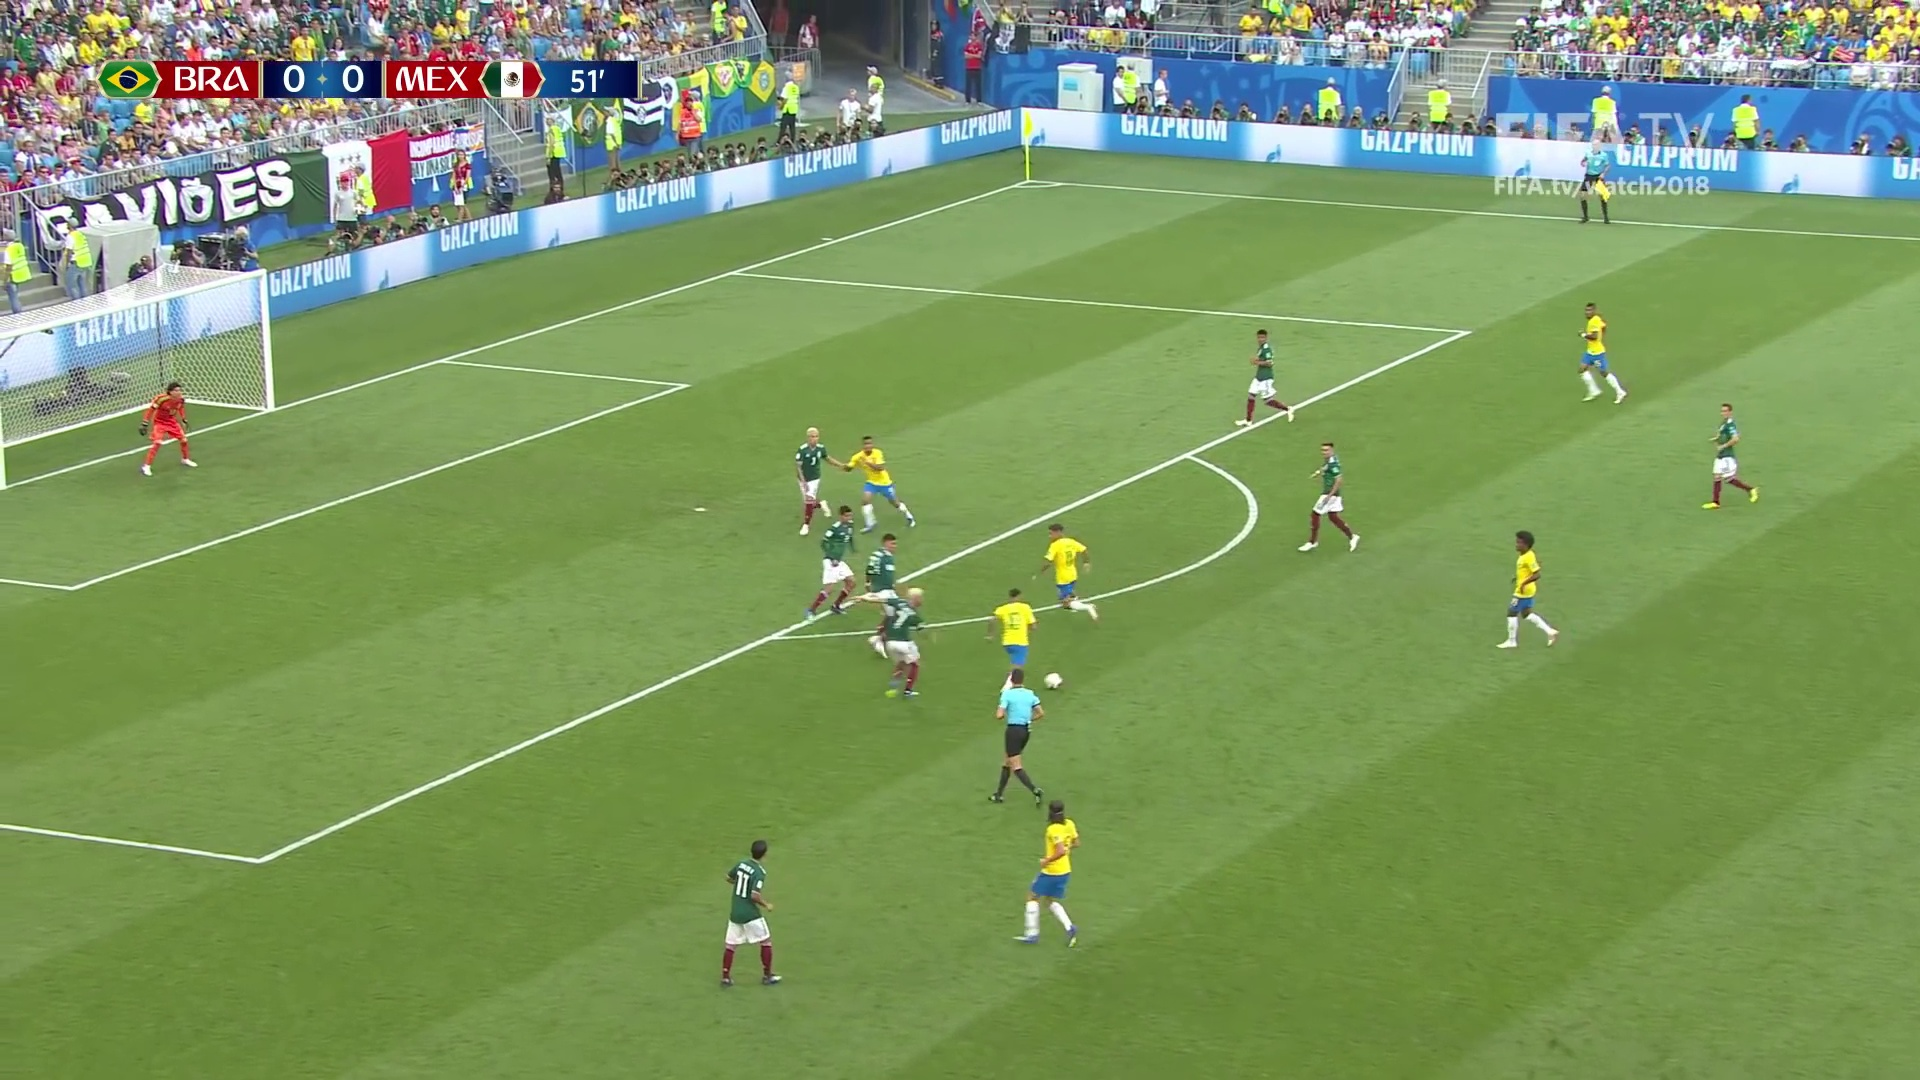ball: (1045, 673, 1062, 689)
person: (1022, 801, 1079, 947), (727, 840, 778, 983), (1501, 532, 1557, 648), (849, 437, 915, 534), (1040, 526, 1102, 620), (1304, 444, 1357, 553), (1240, 329, 1293, 431), (1703, 404, 1756, 505), (1576, 302, 1626, 405), (884, 588, 927, 697), (142, 386, 195, 476), (795, 427, 832, 534), (991, 589, 1040, 667), (821, 506, 855, 614), (865, 534, 897, 611)
